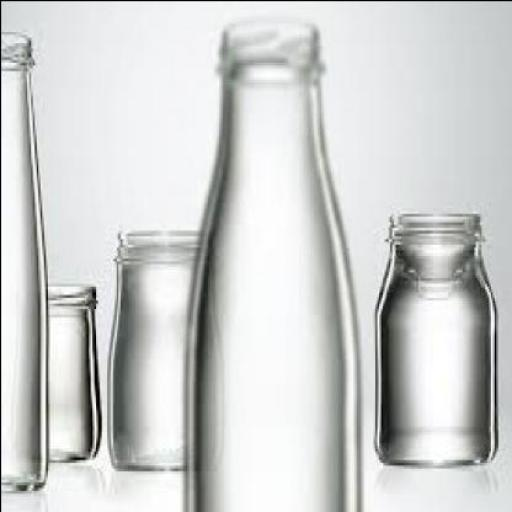glass: (182, 17, 358, 509), (372, 210, 496, 464), (106, 230, 205, 467), (1, 31, 43, 487), (43, 283, 99, 462)
